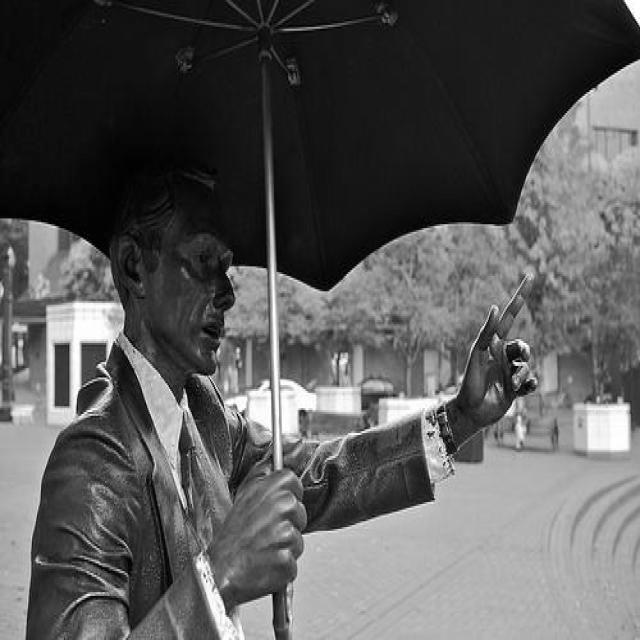vehicle: (226, 378, 317, 440), (356, 376, 400, 410)
